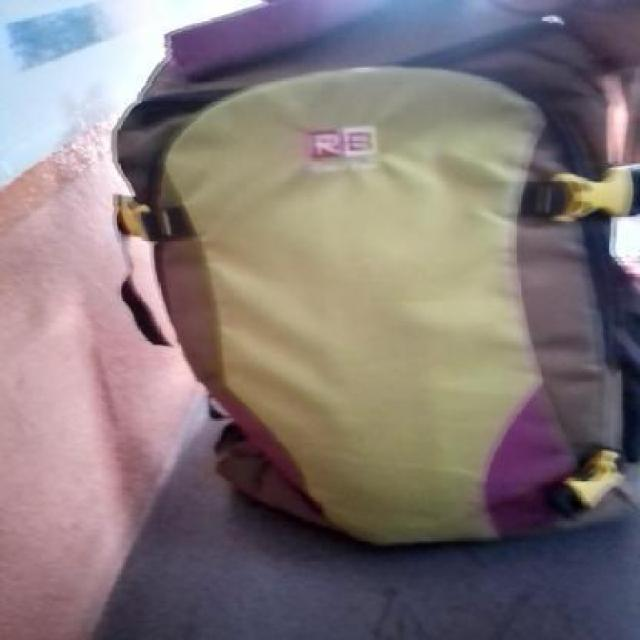backpack: (107, 0, 640, 557)
